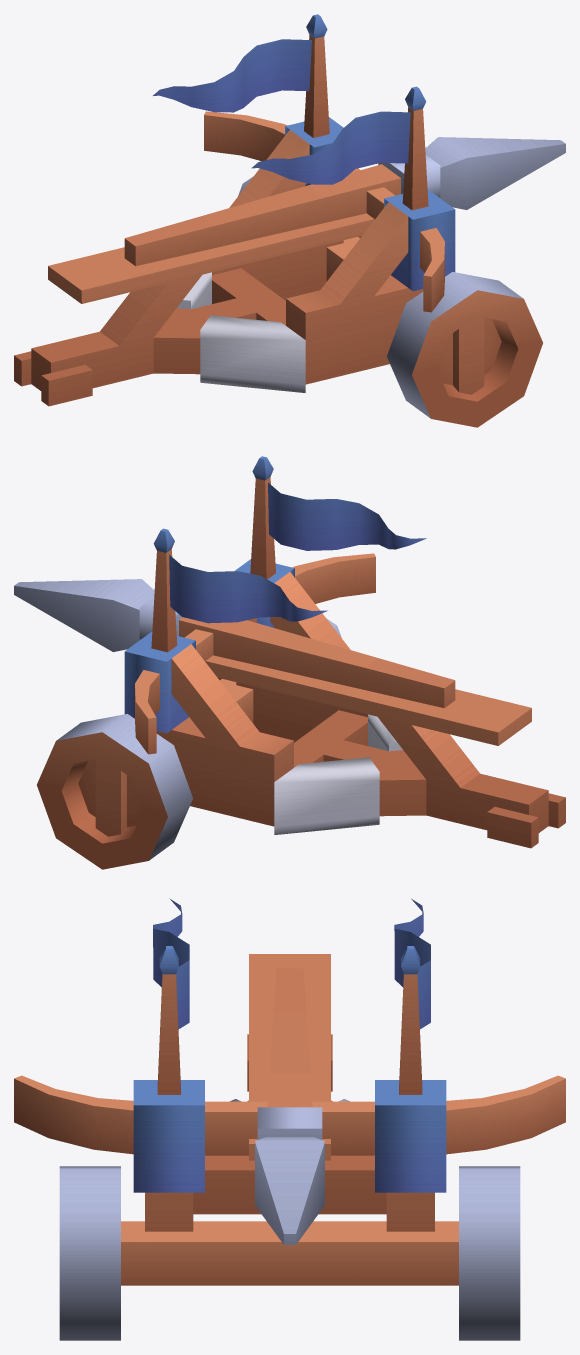
File: siege-ballista.glb
3 views of the same model, one above another, from view 1: azimuth 30°, elevation 25°; view 2: azimuth 150°, elevation 25°; view 3: azimuth 270°, elevation 25° (orthographic). The views are drawn at different scales.
Visible parts, largest first — view 1: siege-ballista, wheel, arrow; view 2: siege-ballista, wheel, arrow; view 3: siege-ballista, wheel (×2), arrow.
Boxes of the visible parts, left/top/right/bottom form: siege-ballista: left=14, top=14, right=455, bottom=406; wheel: left=387, top=272, right=542, bottom=427; arrow: left=124, top=137, right=565, bottom=266; siege-ballista: left=124, top=456, right=565, bottom=848; wheel: left=37, top=714, right=192, bottom=869; arrow: left=14, top=579, right=455, bottom=708; siege-ballista: left=14, top=898, right=565, bottom=1285; wheel (×2): left=59, top=1166, right=520, bottom=1340; arrow: left=255, top=968, right=324, bottom=1244.
Size of the model in its own units: 1.63 by 0.9103 by 1.2.
Materials: 1 (1 with a texture image).
